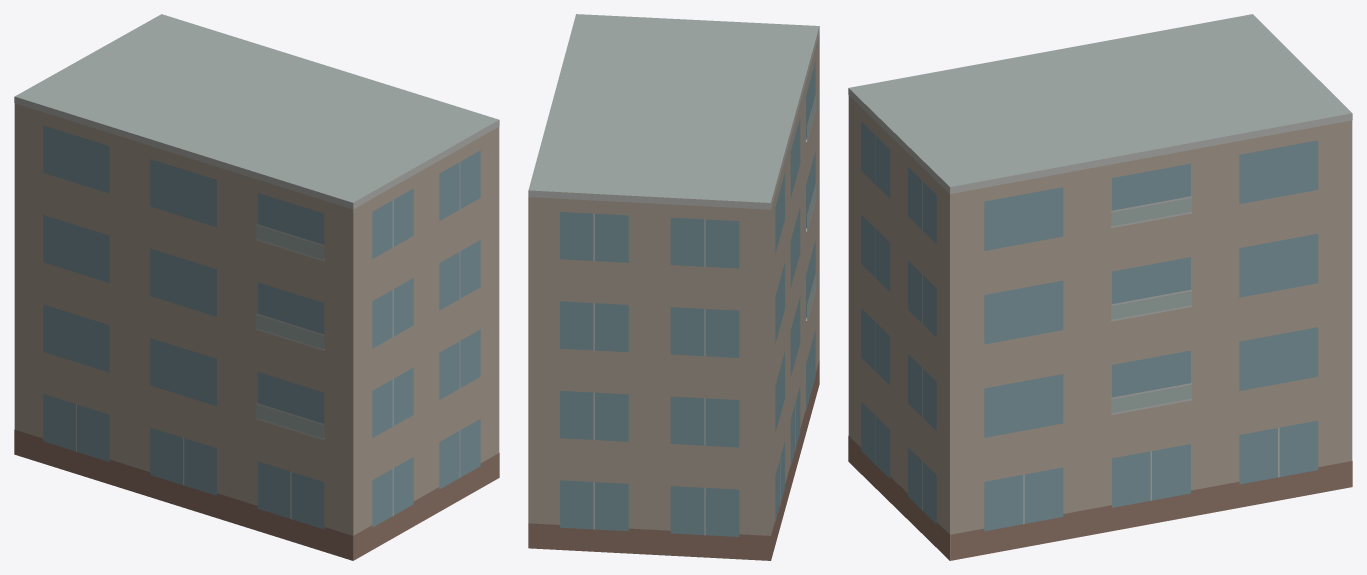
File: survey-upis-32731844.glb
The picture shows the model from 3 angles, left to right: view 1: azimuth 30°, elevation 25°; view 2: azimuth 150°, elevation 25°; view 3: azimuth 270°, elevation 25°; orthographic projection. The views are drawn at different scales.
Visible parts, largest first — view 1: survey-upis-32731844.tmp; view 2: survey-upis-32731844.tmp; view 3: survey-upis-32731844.tmp.
Boxes of the visible parts, bbox=[...] form: survey-upis-32731844.tmp: bbox=[14, 14, 499, 560]; survey-upis-32731844.tmp: bbox=[528, 14, 819, 560]; survey-upis-32731844.tmp: bbox=[848, 14, 1352, 560].
Size of the model in its own units: 13.08 by 13.15 by 16.08.
